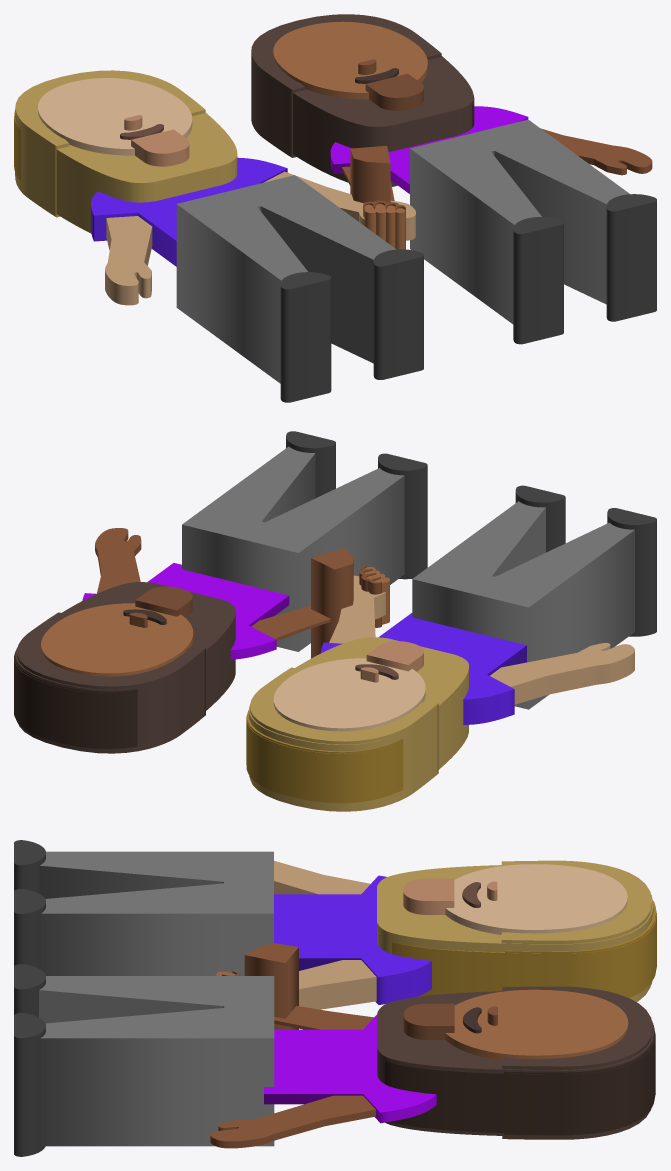
File: emoji_u1f469_1f3fc_200d_1f91d_200d_1f469_1f3fe.glb
The picture shows the model from 3 angles, top to bottom: view 1: azimuth 30°, elevation 25°; view 2: azimuth 150°, elevation 25°; view 3: azimuth 270°, elevation 25°; orthographic projection. The views are drawn at different scales.
Parts seen in each view (by area): view 1: emoji_u1f469_1f3fc_200d_1f91d_200d_1f469_1f3fe; view 2: emoji_u1f469_1f3fc_200d_1f91d_200d_1f469_1f3fe; view 3: emoji_u1f469_1f3fc_200d_1f91d_200d_1f469_1f3fe.
Boxes of the visible parts, x1=… form: emoji_u1f469_1f3fc_200d_1f91d_200d_1f469_1f3fe: x1=14, y1=14, x2=656, y2=402; emoji_u1f469_1f3fc_200d_1f91d_200d_1f469_1f3fe: x1=14, y1=431, x2=656, y2=811; emoji_u1f469_1f3fc_200d_1f91d_200d_1f469_1f3fe: x1=14, y1=840, x2=656, y2=1156.
Bounding box in the file's own units: 0.0346 × 0.007 × 0.0334.
